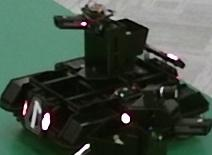armor_1: (23, 101, 51, 130)
front_1: (26, 97, 43, 134)
